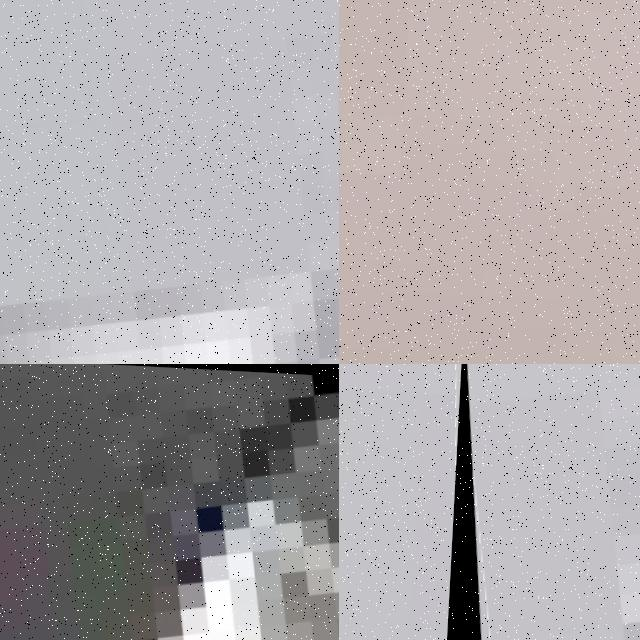drone: (0, 0, 339, 364), (0, 364, 339, 640), (432, 364, 640, 640)
